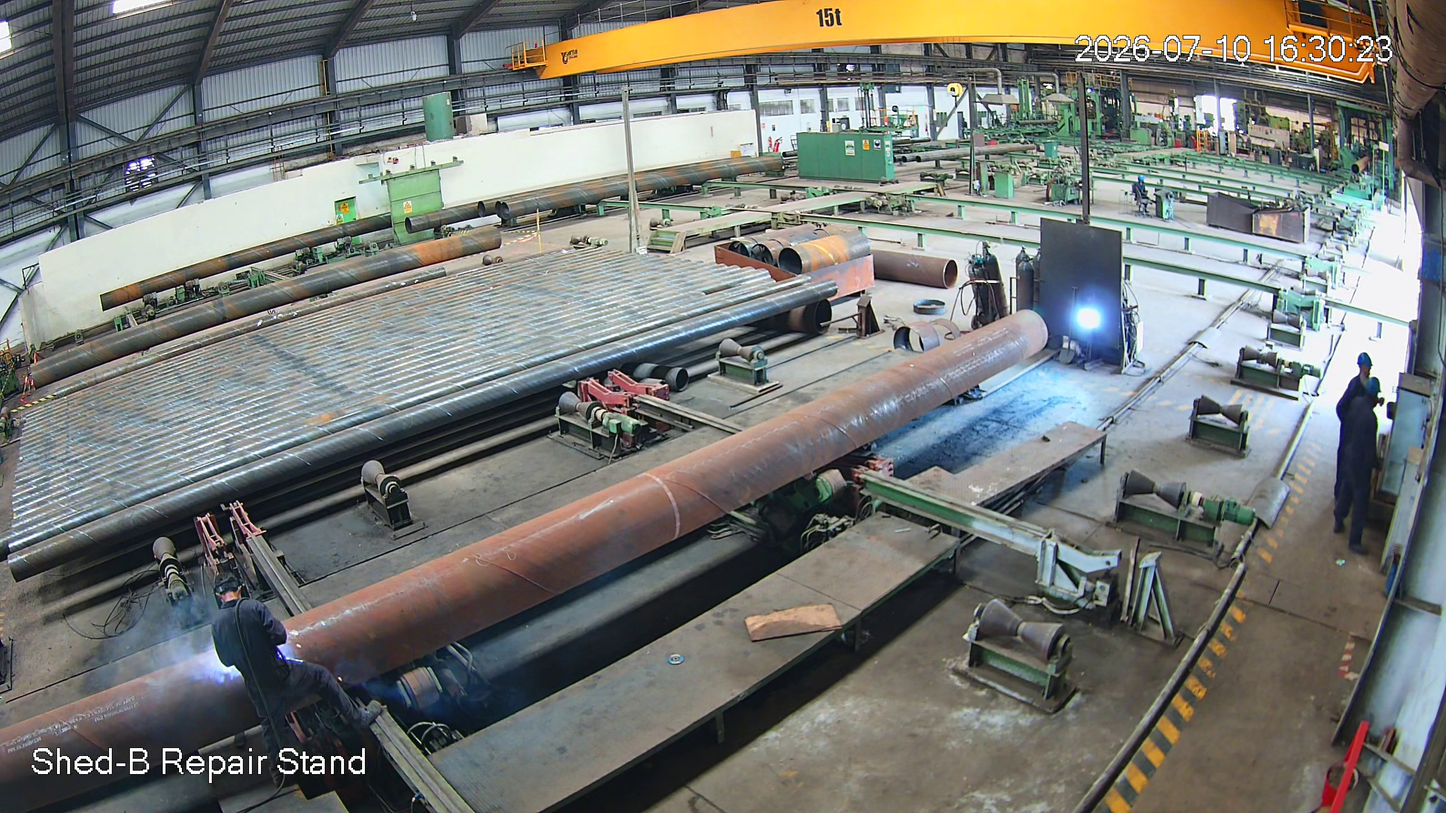Helmet: (208, 566, 262, 619), (1348, 359, 1386, 407)
Person: (203, 571, 394, 784), (1337, 362, 1390, 537)
